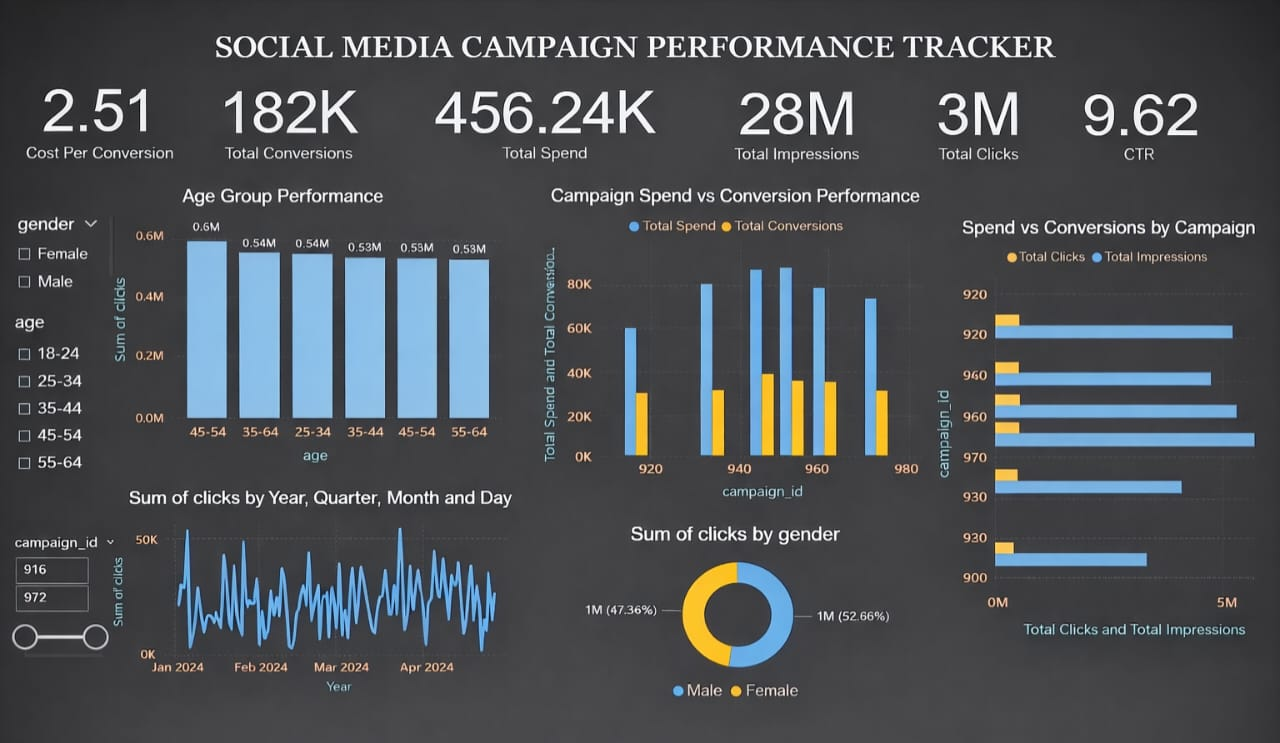

The dashboard page shown, as its layout file describes it:
{"tool":"powerbi","page":{"name":"TASK 2","canvas":[1280,720],"ordinal":0},"visuals":[{"type":"card","fields":{"Values":["Task2 dataset.Total Impressions"]},"box":[735.3,64.7,203.9,105.9],"z":0},{"type":"card","fields":{"Values":["Task2 dataset.Total Clicks"]},"box":[954.9,66.7,129.4,103.9],"z":1000},{"type":"card","fields":{"Values":["Task2 dataset.Total Spend"]},"box":[462.7,64.7,251,103.9],"z":2000},{"type":"card","fields":{"Values":["Task2 dataset.Total Conversions"]},"box":[247.1,64.7,176.5,102],"z":3000},{"type":"card","fields":{"Values":["Task2 dataset.Cost Per Conversion"]},"box":[43.1,56.9,176.5,109.8],"z":4000},{"type":"card","fields":{"Values":["Task2 dataset.CTR"]},"box":[1103.9,45.1,145.1,151],"z":5000},{"type":"clusteredBarChart","title":"Spend vs Conversions by Campaign","fields":{"Y":["Task2 dataset.Total Clicks","Task2 dataset.Total Impressions"],"Category":["Task2 dataset.campaign_id"]},"box":[931.4,221.6,349,435.3],"z":6000},{"type":"clusteredColumnChart","title":"Campaign Spend vs Conversion Performance","fields":{"Category":["Task2 dataset.campaign_id"],"Y":["Task2 dataset.Total Spend","Task2 dataset.Total Conversions"]},"box":[540,183.3,391.7,315],"z":7000},{"type":"donutChart","fields":{"Category":["Task2 dataset.gender"],"Y":["Sum(Task2 dataset.clicks)"]},"box":[539.2,513.7,392.2,190.2],"z":8000},{"type":"lineChart","fields":{"Category":["Task2 dataset.reporting_start.Variation.Date Hierarchy.Year","Task2 dataset.reporting_start.Variation.Date Hierarchy.Quarter","Task2 dataset.reporting_start.Variation.Date Hierarchy.Month","Task2 dataset.reporting_start.Variation.Date Hierarchy.Day"],"Y":["Sum(Task2 dataset.clicks)"]},"box":[131.4,480.4,407.8,223.5],"z":9000},{"type":"clusteredColumnChart","title":"Age Group Performance","fields":{"Category":["Task2 dataset.age"],"Y":["Sum(Task2 dataset.clicks)"]},"box":[131.4,184.3,372.5,280.4],"z":10000},{"type":"textbox","box":[258,22,846,56],"z":11000},{"type":"slicer","fields":{"Values":["Task2 dataset.campaign_id"]},"box":[10,544,122,142],"z":12000},{"type":"slicer","fields":{"Values":["Task2 dataset.age"]},"box":[10,338,122,176],"z":13000},{"type":"slicer","fields":{"Values":["Task2 dataset.gender"]},"box":[9.8,221.6,121.6,115.7],"z":14000}]}

Visuals, with their boxes on the page's 1280x720 design canvas (x1, y1, x2, y2). These are canvas units, not pixel positions in the 1280x743 screenshot, which may show the page scaled, cropped or inside an application window:
card - Task2 dataset.Total Impressions: [735, 65, 939, 171]
card - Task2 dataset.Total Clicks: [955, 67, 1084, 171]
card - Task2 dataset.Total Spend: [463, 65, 714, 169]
card - Task2 dataset.Total Conversions: [247, 65, 424, 167]
card - Task2 dataset.Cost Per Conversion: [43, 57, 220, 167]
card - Task2 dataset.CTR: [1104, 45, 1249, 196]
"Spend vs Conversions by Campaign" clusteredBarChart: [931, 222, 1280, 657]
"Campaign Spend vs Conversion Performance" clusteredColumnChart: [540, 183, 932, 498]
donutChart - Task2 dataset.gender x Sum(Task2 dataset.clicks): [539, 514, 931, 704]
lineChart - Task2 dataset.reporting_start.Variation.Date Hierarchy.Year x Task2 dataset.reporting_start.Variation.Date Hierarchy.Quarter: [131, 480, 539, 704]
"Age Group Performance" clusteredColumnChart: [131, 184, 504, 465]
textbox: [258, 22, 1104, 78]
slicer - Task2 dataset.campaign_id: [10, 544, 132, 686]
slicer - Task2 dataset.age: [10, 338, 132, 514]
slicer - Task2 dataset.gender: [10, 222, 131, 337]
